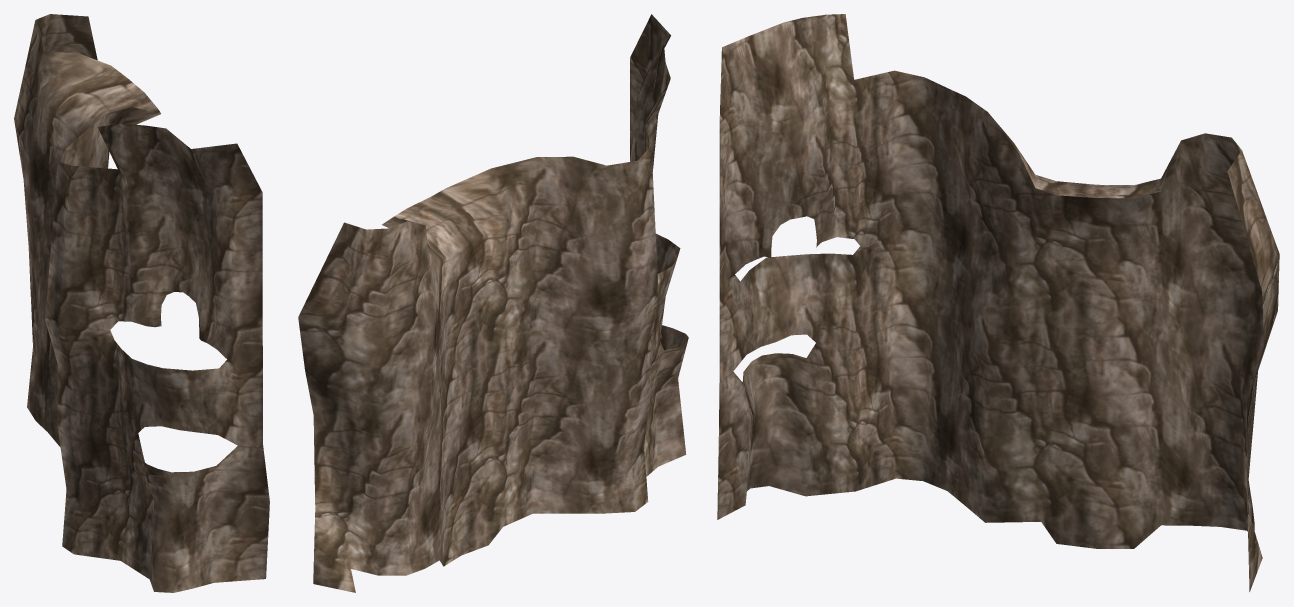
File: EKH_ENTRANCE_PS_EN_WALL0001.fbx
The picture shows the model from 3 angles, left to right: view 1: azimuth 30°, elevation 25°; view 2: azimuth 150°, elevation 25°; view 3: azimuth 270°, elevation 25°; orthographic projection. The views are drawn at different scales.
Parts seen in each view (by area): view 1: EKH_ENTRANCE_PS_EN_WALL0001; view 2: EKH_ENTRANCE_PS_EN_WALL0001; view 3: EKH_ENTRANCE_PS_EN_WALL0001.
Part boxes in pixels (x1,y1,x2,y2): EKH_ENTRANCE_PS_EN_WALL0001: (14,14,269,592); EKH_ENTRANCE_PS_EN_WALL0001: (298,14,688,592); EKH_ENTRANCE_PS_EN_WALL0001: (717,14,1279,591).
Bounding box in the file's own units: 101071 × 206918 × 214658.
Materials: 1 (1 with a texture image).
